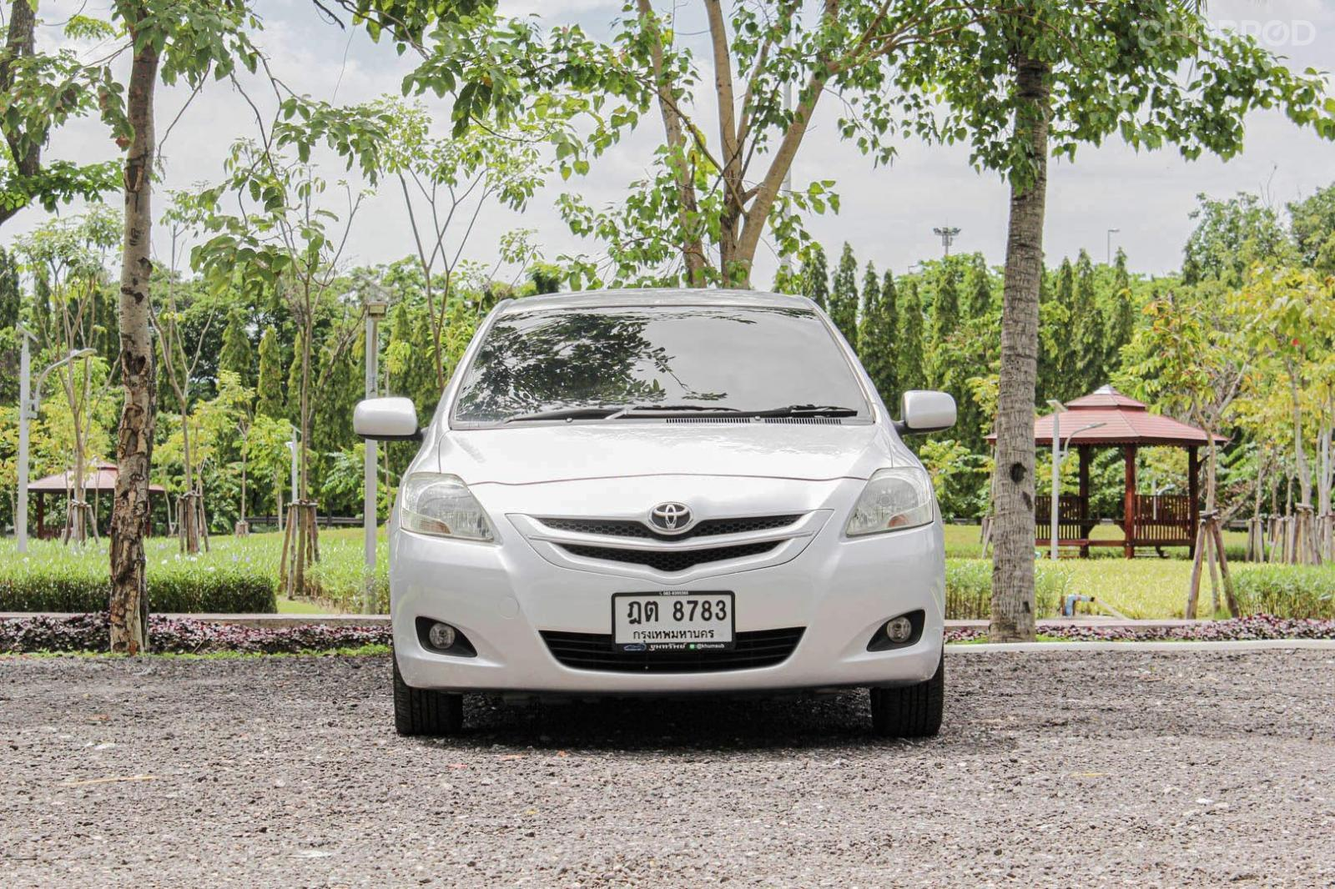license-plate: (612, 588, 739, 653)
